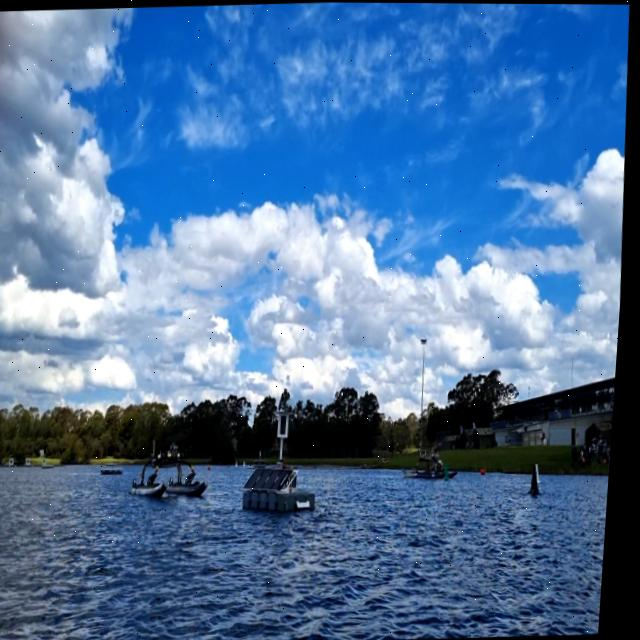led: (284, 413, 293, 436)
